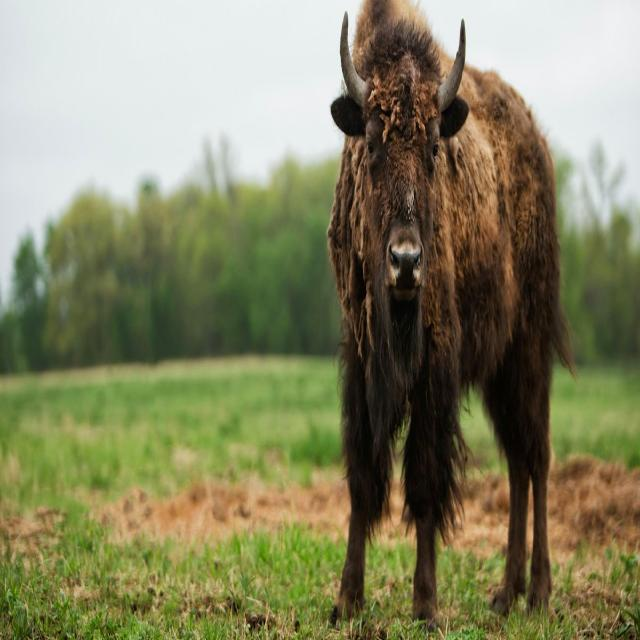bison: (328, 0, 571, 625)
